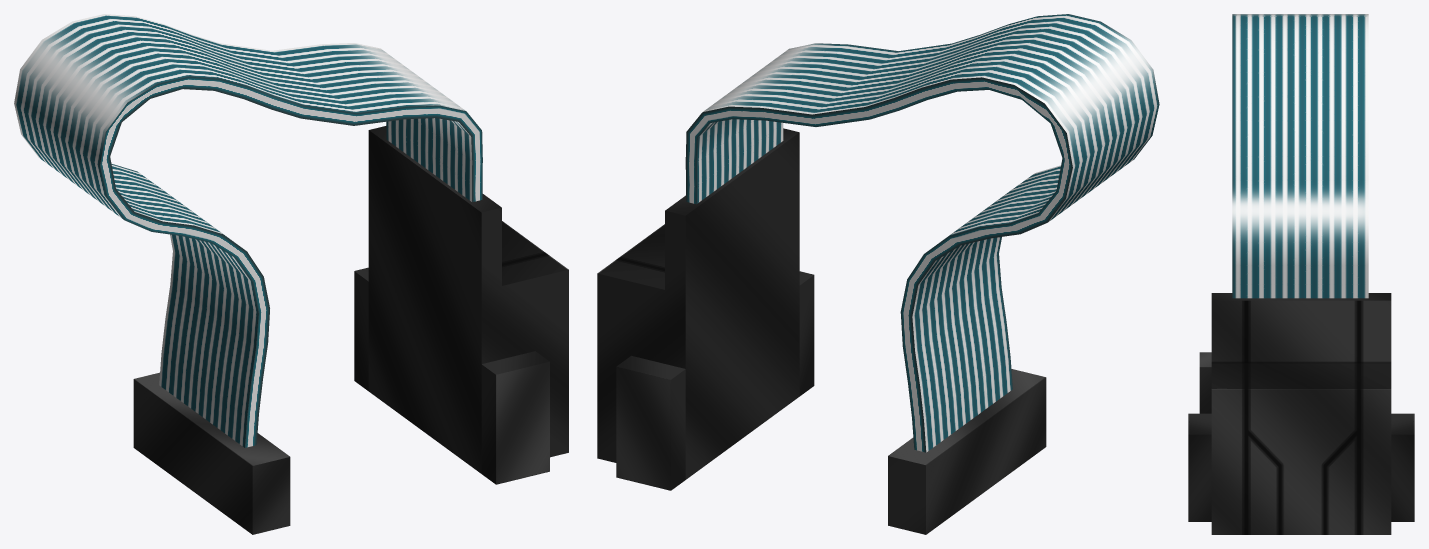
3 views of the same model, side by side, from view 1: azimuth 30°, elevation 25°; view 2: azimuth 150°, elevation 25°; view 3: azimuth 270°, elevation 25° (orthographic). The views are drawn at different scales.
Visible parts, largest first — view 1: pCube75; view 2: pCube75; view 3: pCube75.
Part boxes in pixels (x1,y1,x2,y2): pCube75: [14, 14, 568, 534]; pCube75: [597, 14, 1159, 534]; pCube75: [1188, 14, 1414, 534].
Bounding box in the file's own units: 3.96 × 3.79 × 2.13.
Materials: 1 (1 with a texture image).
